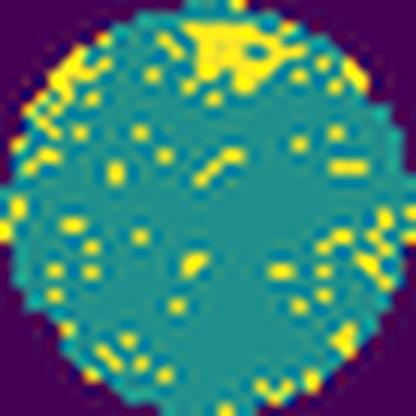Loc: (184, 25, 296, 97)
